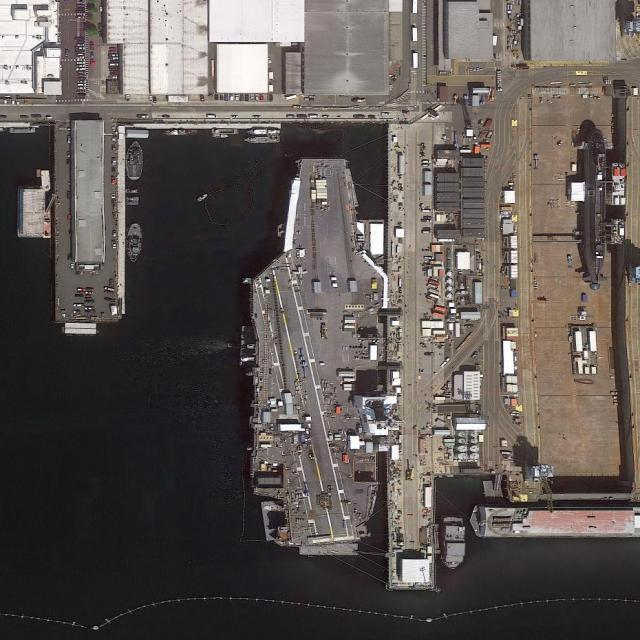Aircraft Carrier: (251, 159, 388, 555)
Dock: (388, 121, 434, 588), (51, 121, 126, 331)
